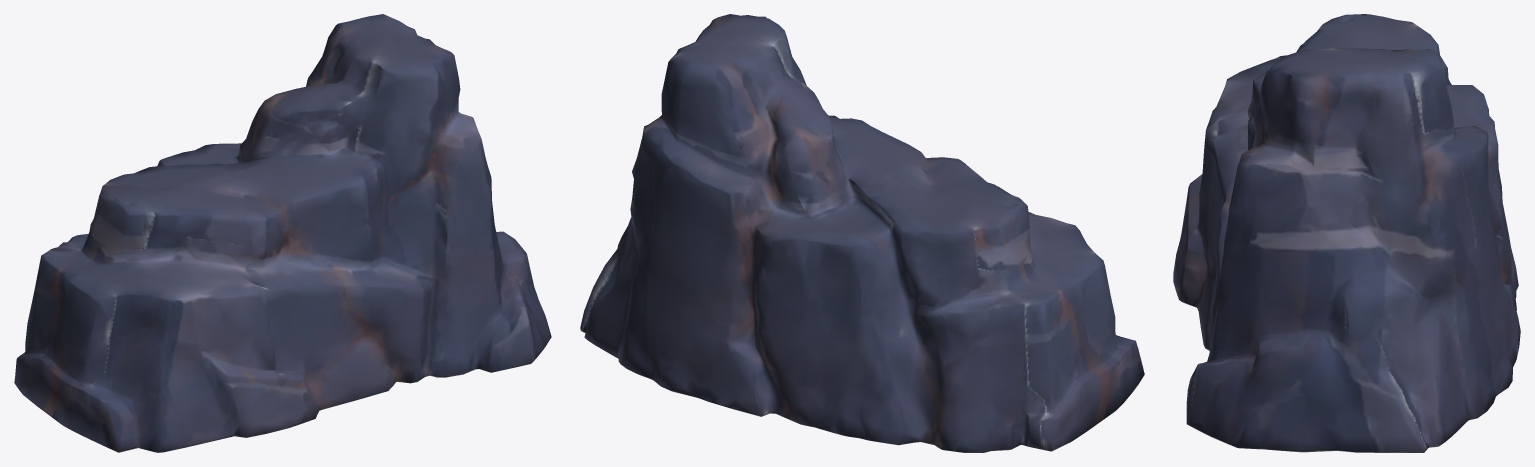
Rendered from SM_Env_InfernoCliff.glb.
The picture shows the model from 3 angles, left to right: view 1: azimuth 30°, elevation 25°; view 2: azimuth 150°, elevation 25°; view 3: azimuth 270°, elevation 25°; orthographic projection. The views are drawn at different scales.
Parts seen in each view (by area): view 1: SM_Env_InfernoCliff_LOD0; view 2: SM_Env_InfernoCliff_LOD0; view 3: SM_Env_InfernoCliff_LOD0.
Boxes of the visible parts, x1,y1,x2,y2 form: SM_Env_InfernoCliff_LOD0: (14,14,551,452); SM_Env_InfernoCliff_LOD0: (580,14,1144,452); SM_Env_InfernoCliff_LOD0: (1173,14,1520,452).
Size of the model in its own units: 14.6 by 8.58 by 8.17.
1 material, 1 textured.
